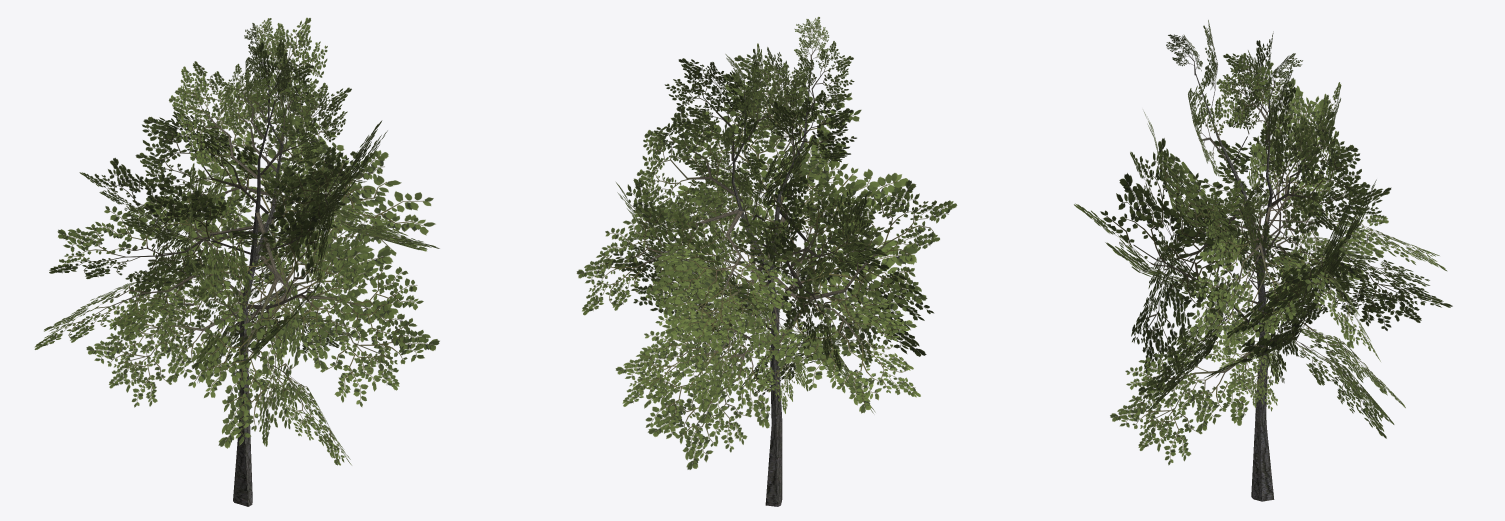
Rendered from Tree3.gltf.
3 renders of one model, left to right at view 1: azimuth 30°, elevation 25°; view 2: azimuth 150°, elevation 25°; view 3: azimuth 270°, elevation 25°, orthographic. The views are drawn at different scales.
Visible parts, largest first — view 1: Tree-01-3_2; view 2: Tree-01-3_2; view 3: Tree-01-3_2.
Part boxes in pixels (<box>): Tree-01-3_2: <box>34,17,439,506</box>; Tree-01-3_2: <box>576,16,957,506</box>; Tree-01-3_2: <box>1074,20,1452,501</box>.
Bounding box in the file's own units: 219 × 226 × 187.
6 materials, 6 textured.
